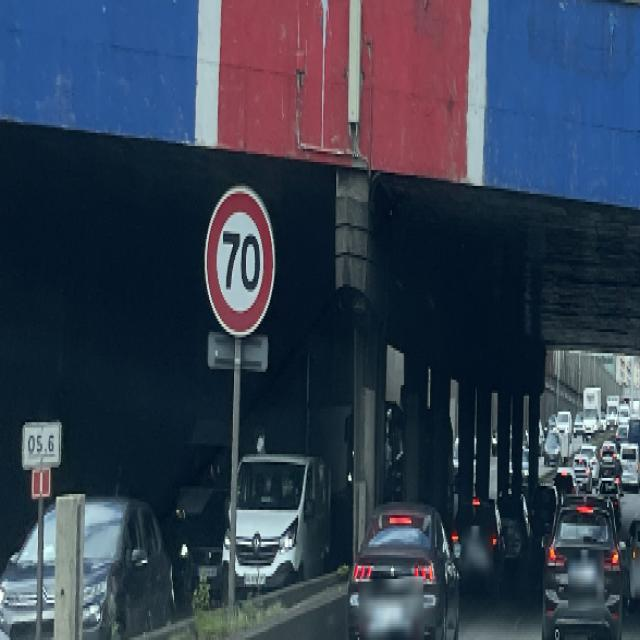speed_70: (202, 188, 275, 342)
